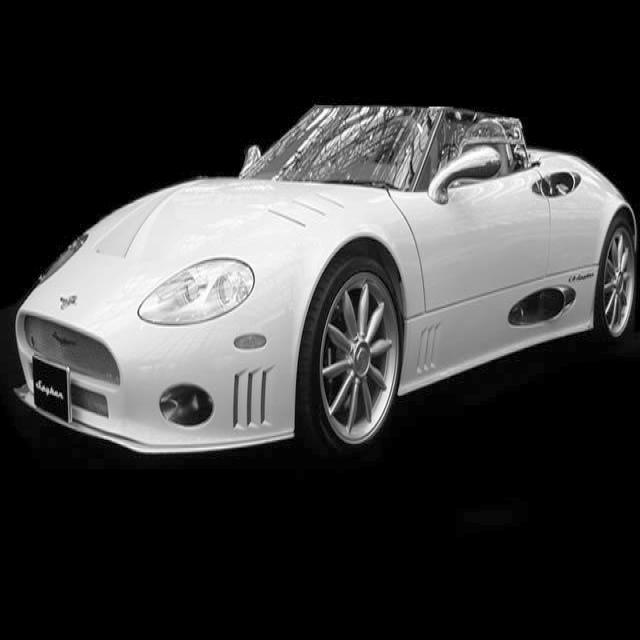car: (12, 103, 637, 457)
